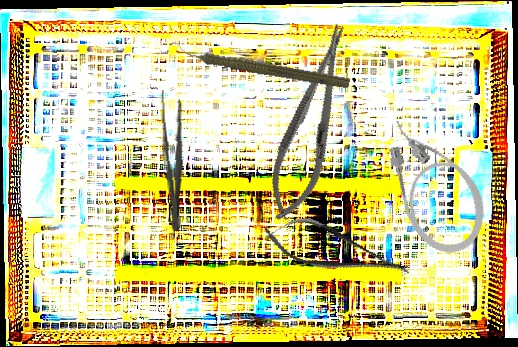Cannula: (372, 102, 498, 265)
Dressing Forceps: (157, 88, 189, 233)
Handpiece: (171, 40, 352, 92)
Micro Scissor: (258, 207, 416, 294)
Needle Holder: (257, 16, 366, 230)
